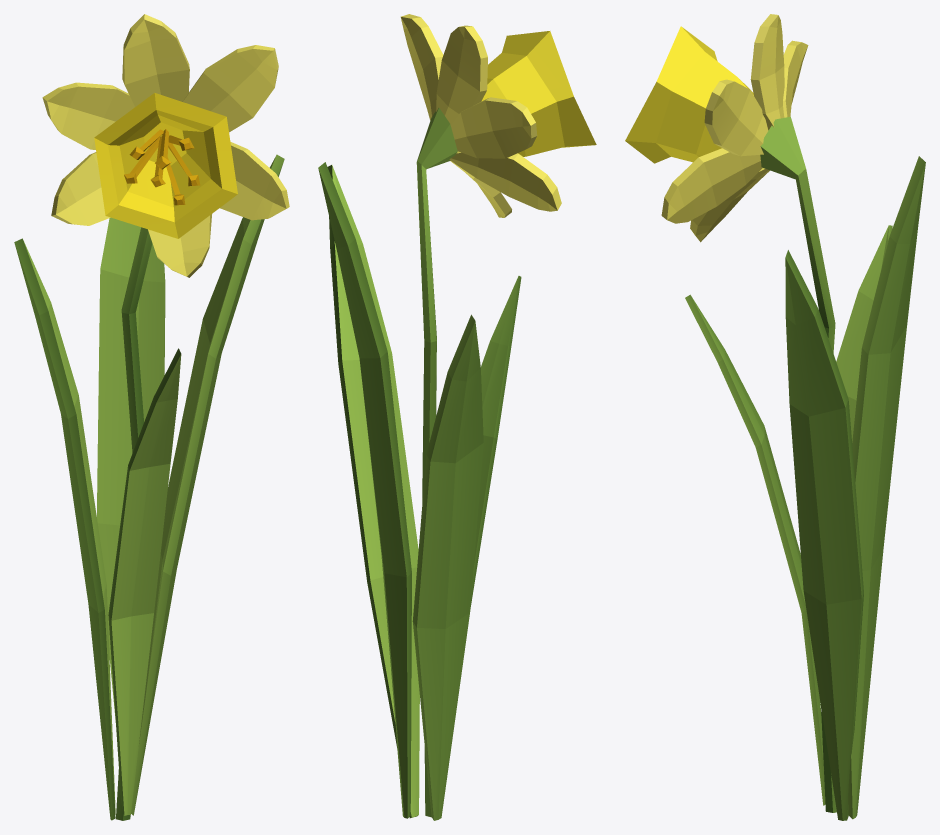
File: Daffodil.obj
3 renders of one model, left to right at view 1: azimuth 30°, elevation 25°; view 2: azimuth 150°, elevation 25°; view 3: azimuth 270°, elevation 25°, orthographic. The views are drawn at different scales.
Parts seen in each view (by area): view 1: PP_Daffodil_03; view 2: PP_Daffodil_03; view 3: PP_Daffodil_03.
Boxes of the visible parts, x1,y1,x2,y2 form: PP_Daffodil_03: (14, 14, 289, 820); PP_Daffodil_03: (318, 14, 596, 820); PP_Daffodil_03: (625, 14, 925, 820).
Size of the model in its own units: 0.0974 by 0.3214 by 0.1102.
Materials: 1 (1 with a texture image).
